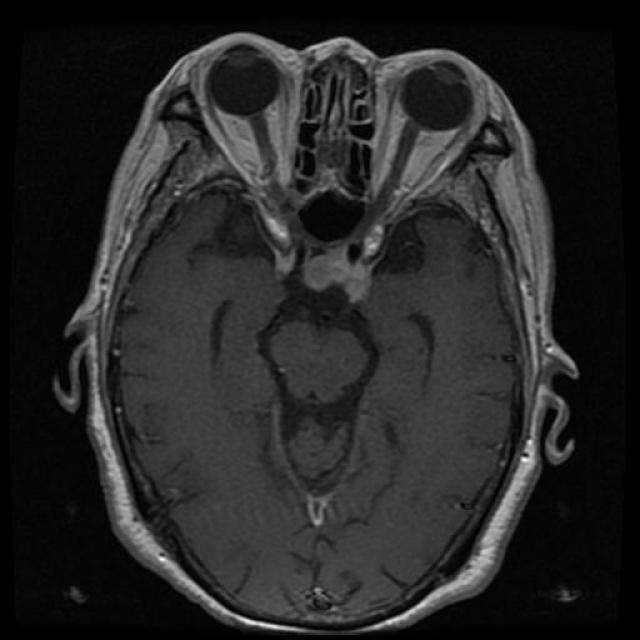pituitary: (270, 239, 404, 325)
